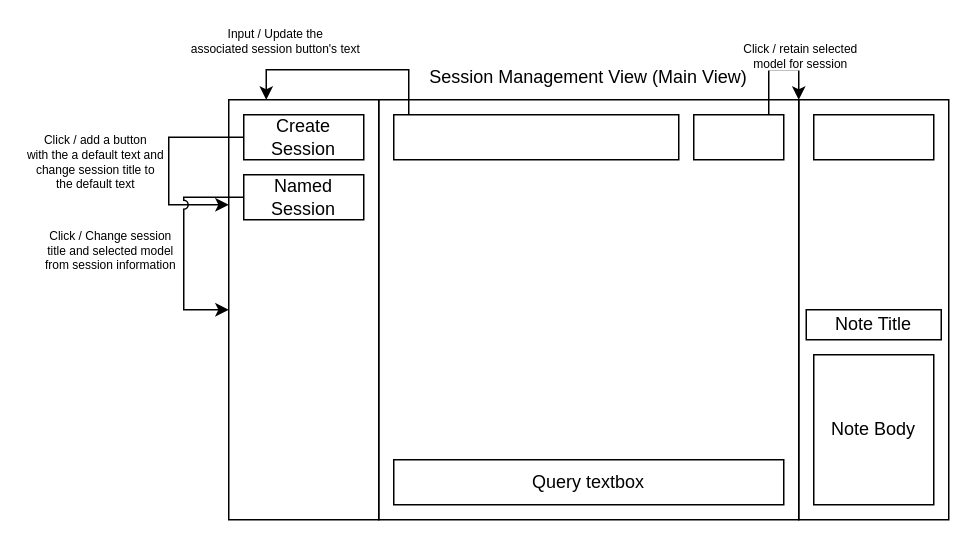
Some shapes in this 975 by 546 pixel diagram are drawn without their labels. The centre of each missing label's shape, as x and y in pixels:
Create Note: (873,136)
Model (dropdown): (738,136)
Session Title: (535,136)
